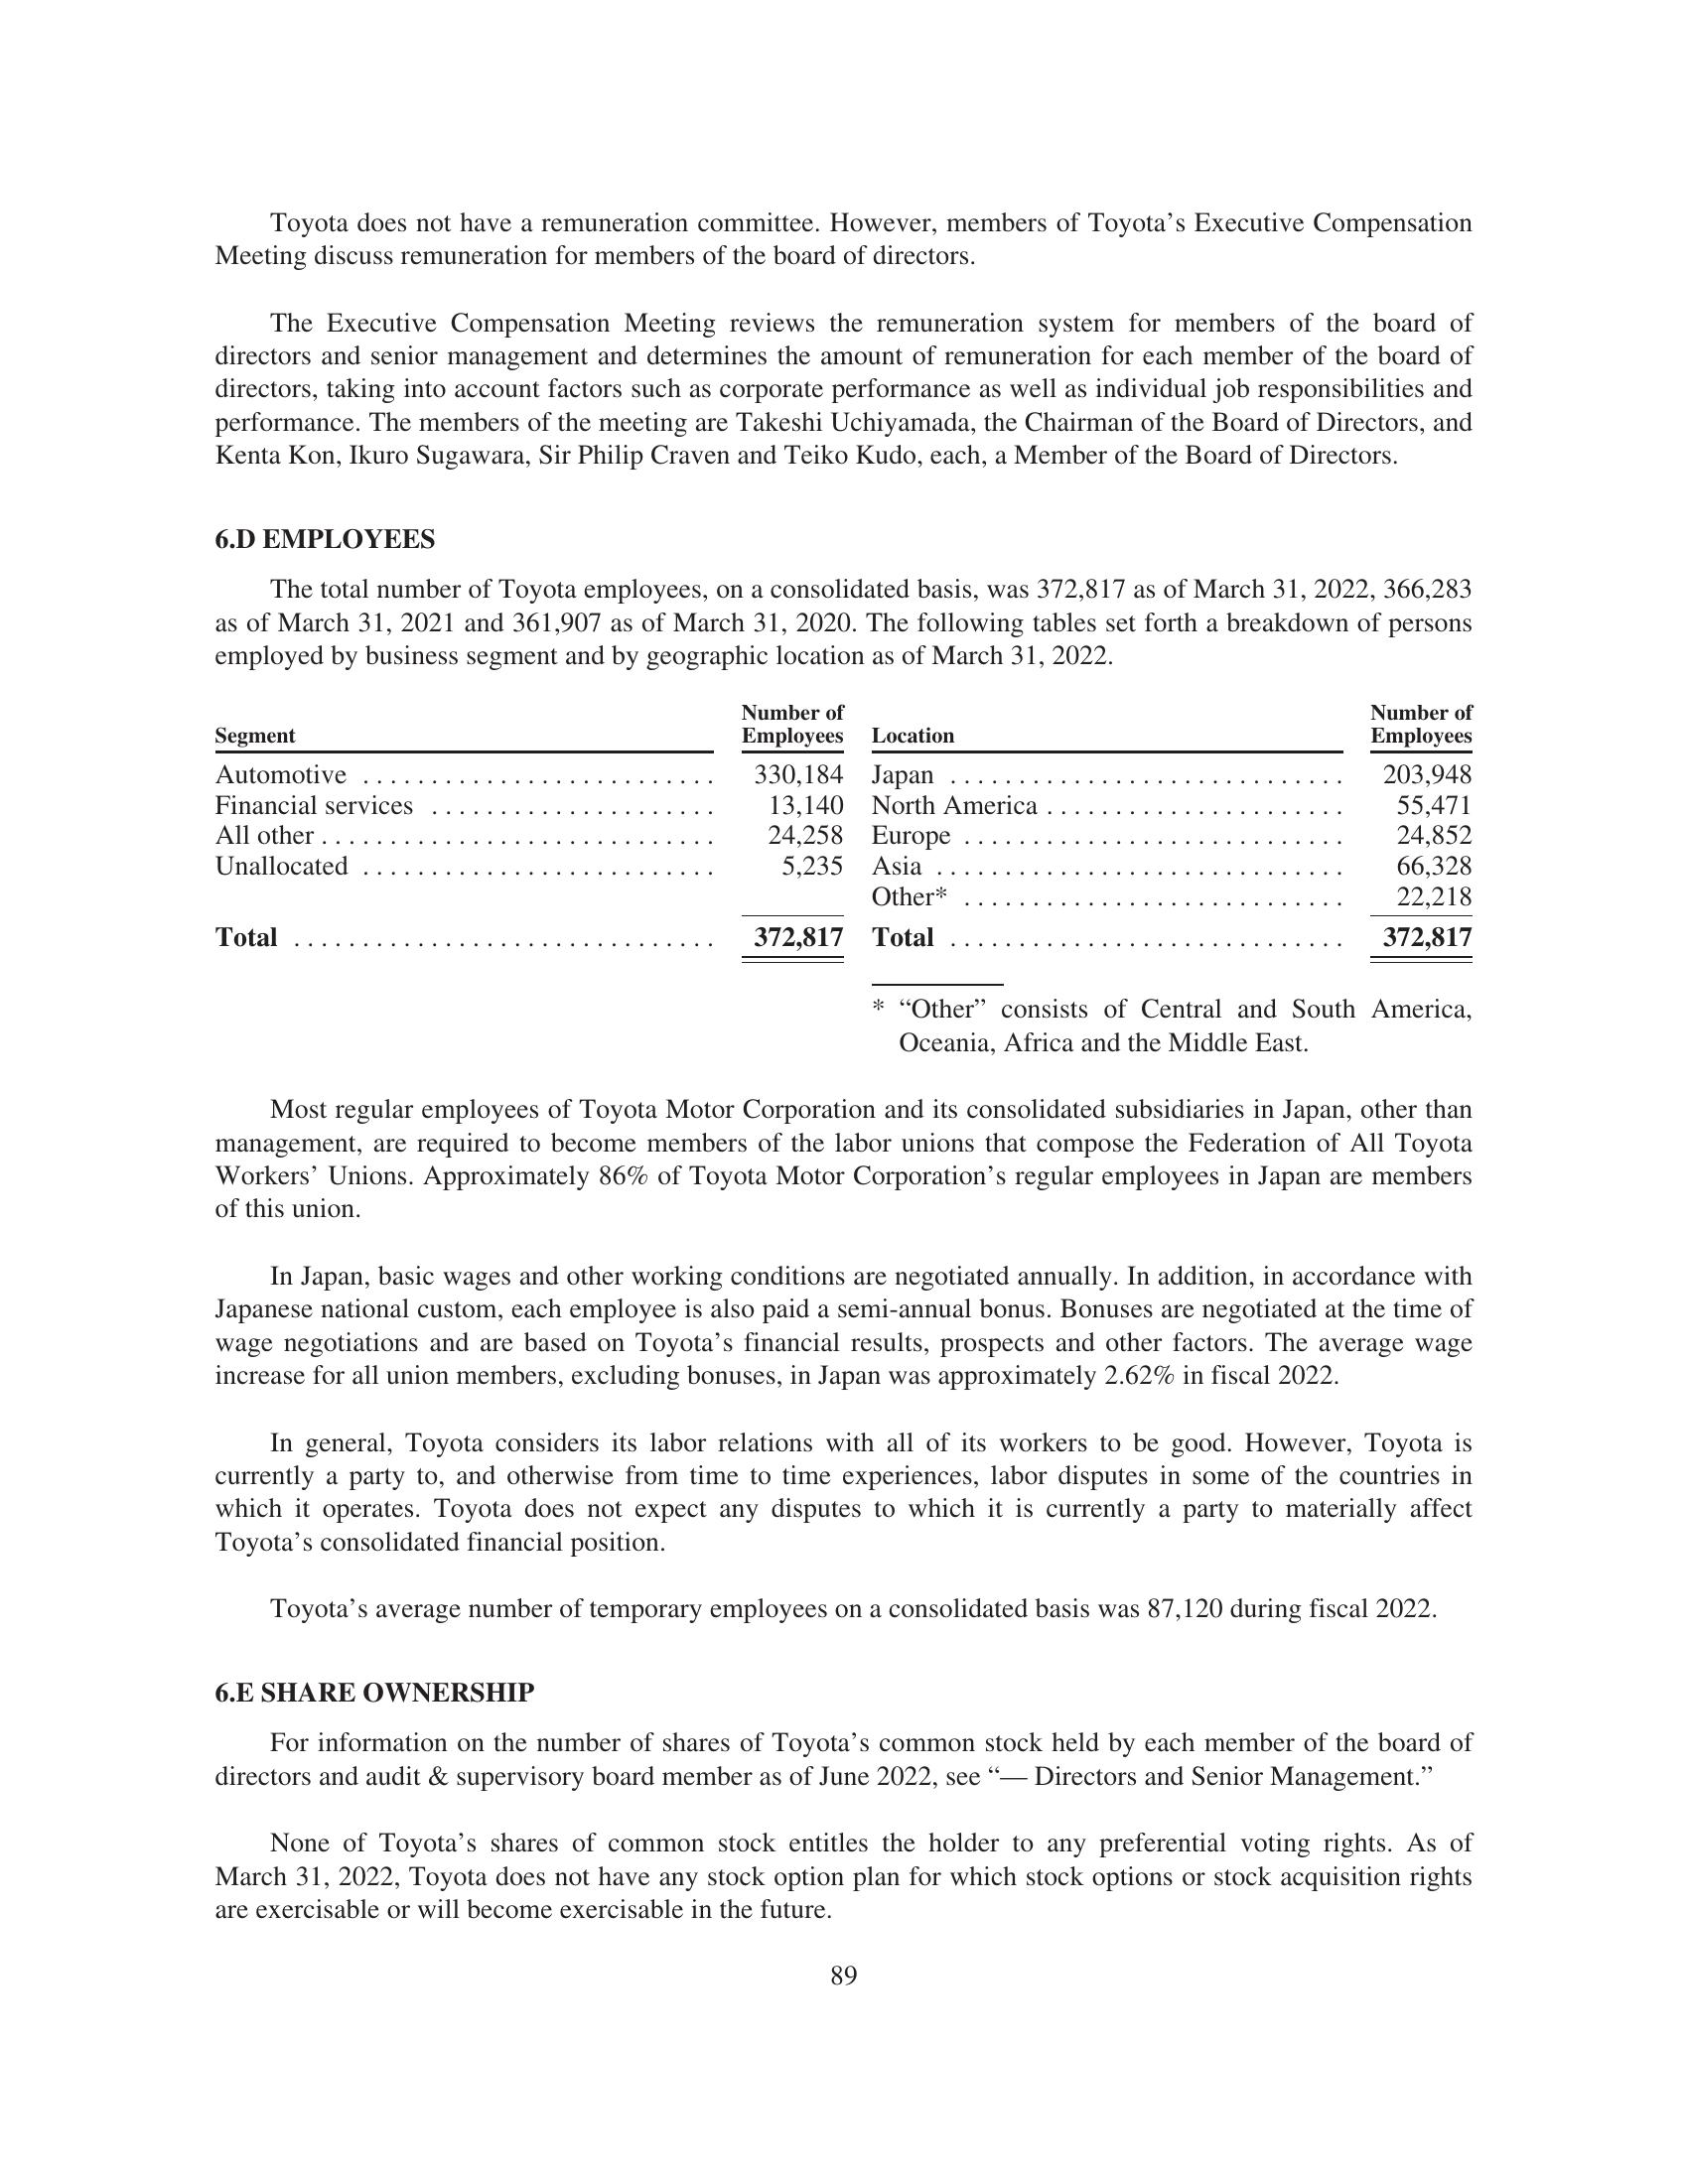Footer: (0, 1938, 1688, 2184)
Header: (0, 0, 1688, 195)
Table: (188, 674, 856, 957), (871, 677, 1500, 963)
